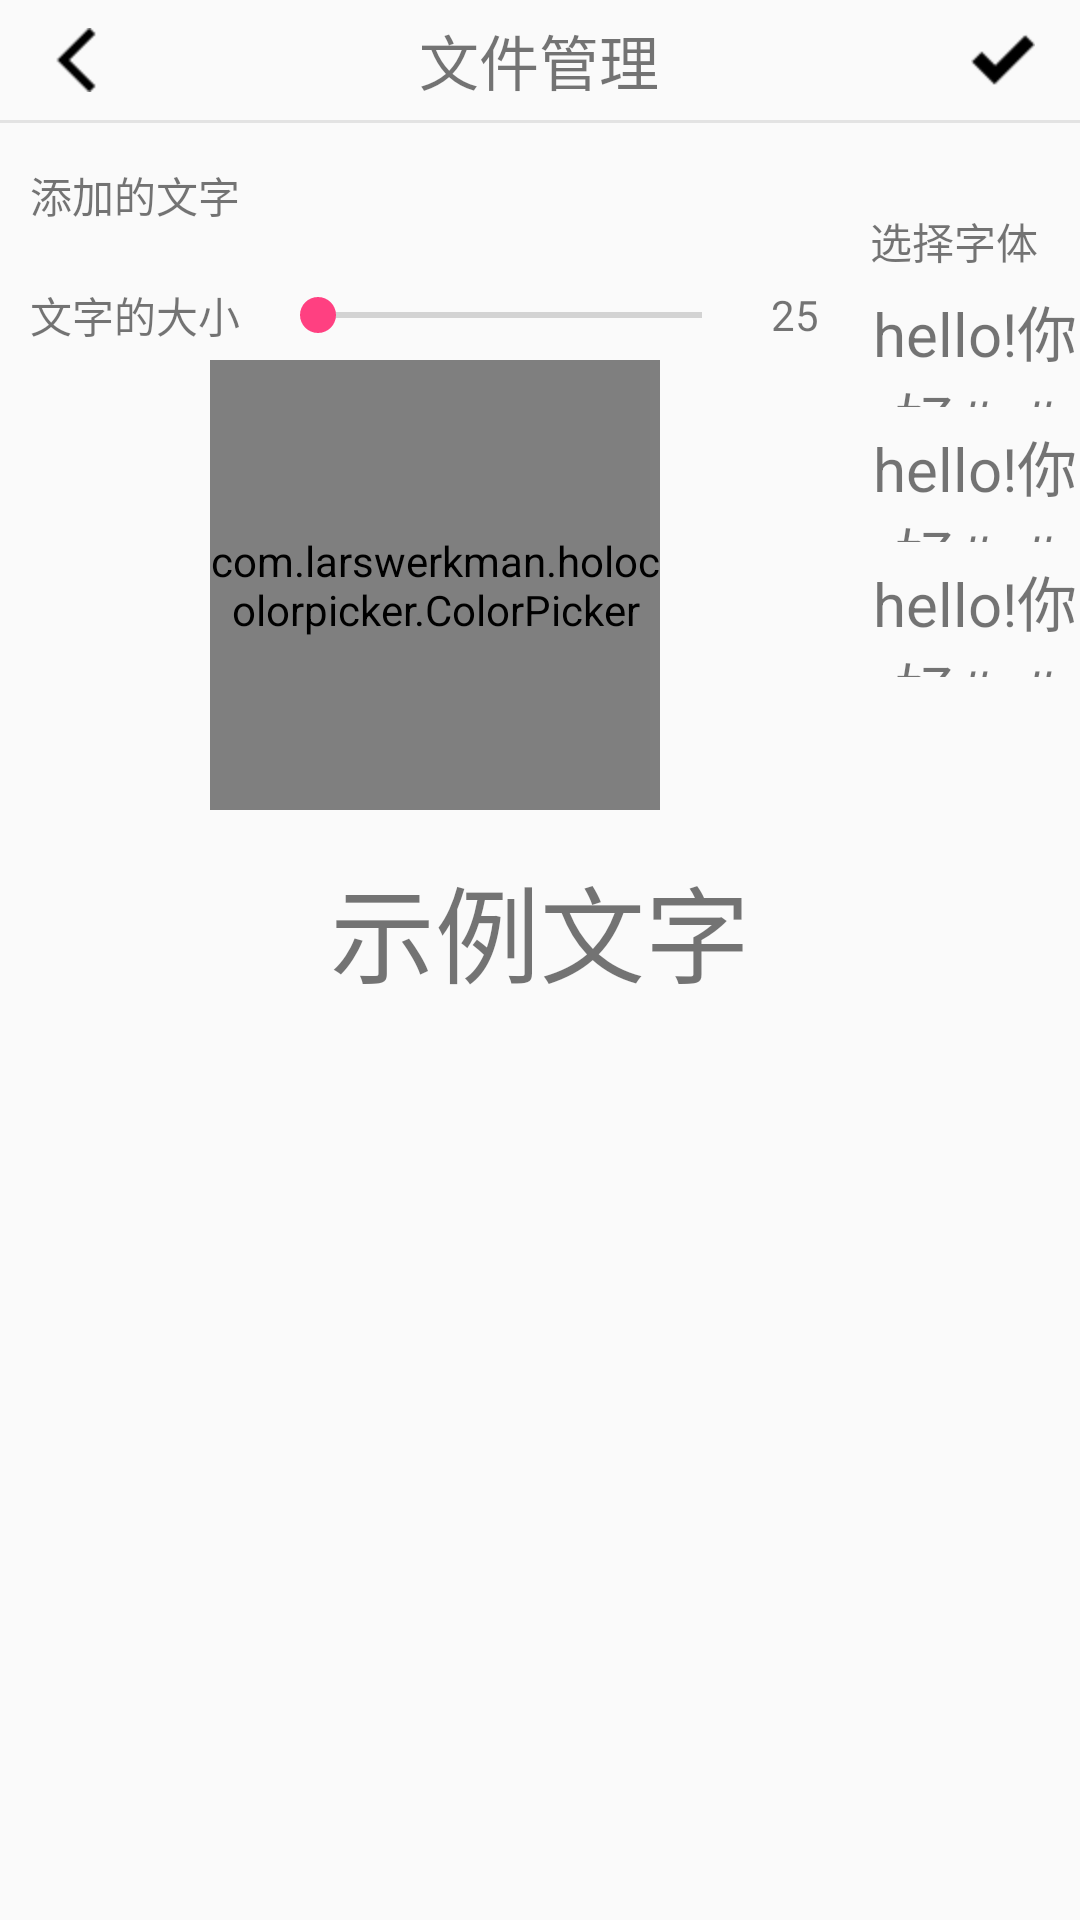

Point at icon controls on the screen. Image size 1080px x 1920px, points as (x=x, y=y).
back: (x=76, y=60)
ensure: (x=1003, y=60)
